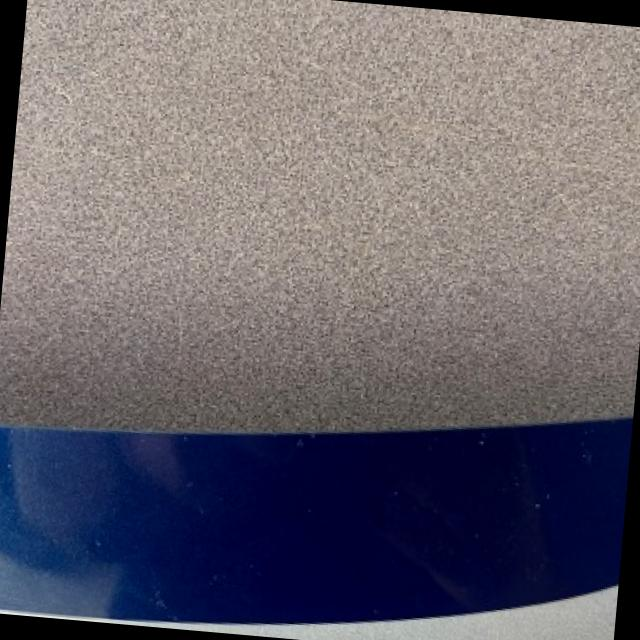healthy: (0, 0, 640, 430), (244, 587, 618, 640)
